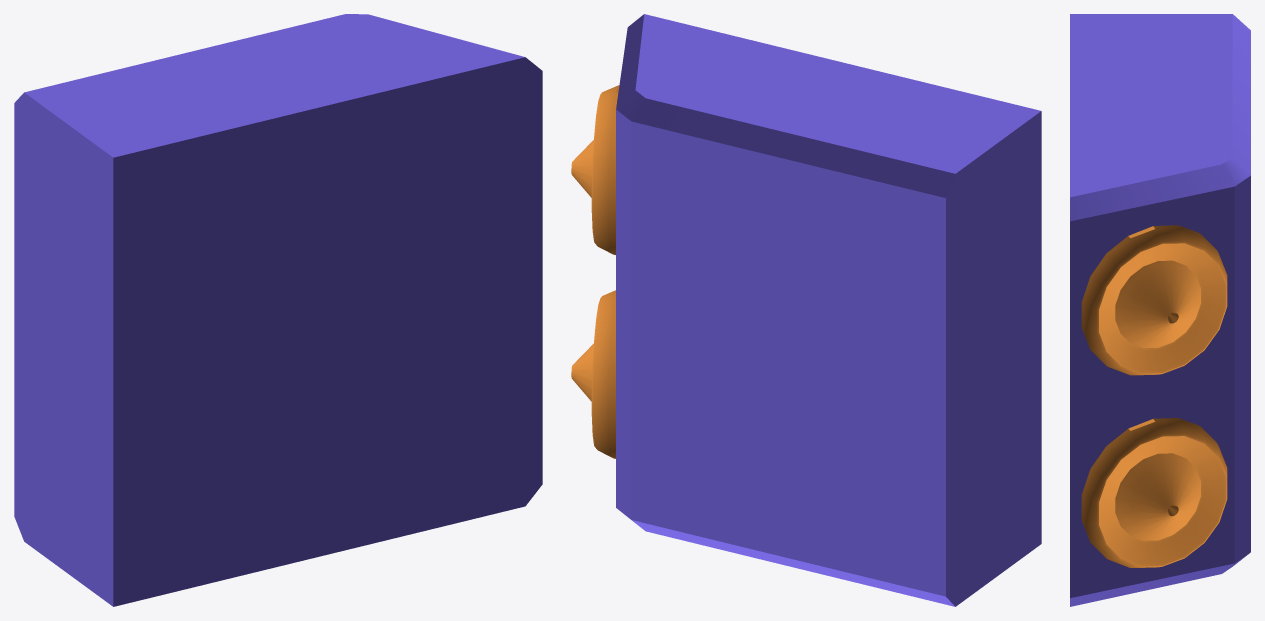
Rendered from SM_Fan_50x50.fbx.
The picture shows the model from 3 angles, left to right: view 1: azimuth 30°, elevation 25°; view 2: azimuth 150°, elevation 25°; view 3: azimuth 270°, elevation 25°; orthographic projection. The views are drawn at different scales.
Parts seen in each view (by area): view 1: SM_Fan_50x50:Fan_50x050; view 2: SM_Fan_50x50:Fan_50x050, SM_Fan_50x50:Cylinder004, SM_Fan_50x50:Cylinder003; view 3: SM_Fan_50x50:Fan_50x050, SM_Fan_50x50:Cylinder004, SM_Fan_50x50:Cylinder003.
Boxes of the visible parts, left/top/right/bottom form: SM_Fan_50x50:Fan_50x050: left=14, top=14, right=542, bottom=606; SM_Fan_50x50:Fan_50x050: left=616, top=14, right=1041, bottom=606; SM_Fan_50x50:Cylinder004: left=571, top=85, right=619, bottom=254; SM_Fan_50x50:Cylinder003: left=571, top=290, right=615, bottom=458; SM_Fan_50x50:Fan_50x050: left=1070, top=14, right=1250, bottom=606; SM_Fan_50x50:Cylinder004: left=1081, top=225, right=1227, bottom=375; SM_Fan_50x50:Cylinder003: left=1081, top=418, right=1227, bottom=567.
Bounding box in the file's own units: 50.93 × 50 × 20.
